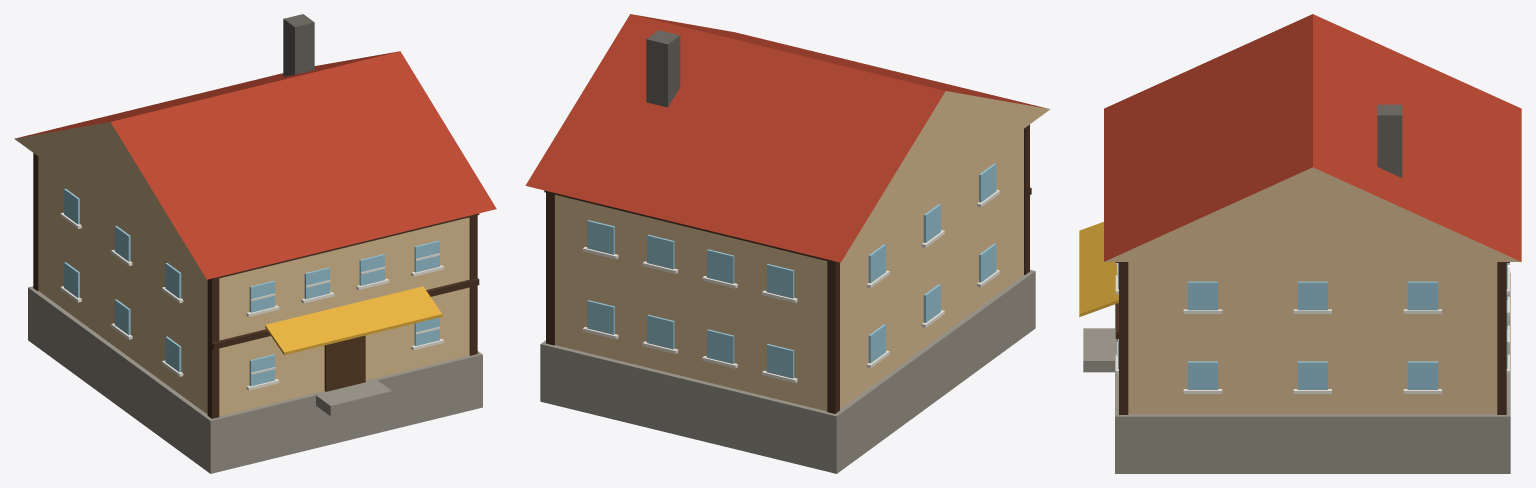
The model's file is restaurant.glb.
3 renders of one model, left to right at view 1: azimuth 30°, elevation 25°; view 2: azimuth 150°, elevation 25°; view 3: azimuth 270°, elevation 25°, orthographic. The views are drawn at different scales.
Visible parts, largest first — view 1: restaurant-col; view 2: restaurant-col; view 3: restaurant-col.
Boxes of the visible parts, <box> form: restaurant-col: <box>14,14,496,473</box>; restaurant-col: <box>525,14,1050,473</box>; restaurant-col: <box>1079,14,1521,473</box>.
Bounding box in the file's own units: 13.2 × 13.4 × 16.1.
